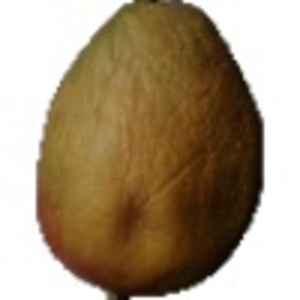mamão: (33, 2, 269, 290)
